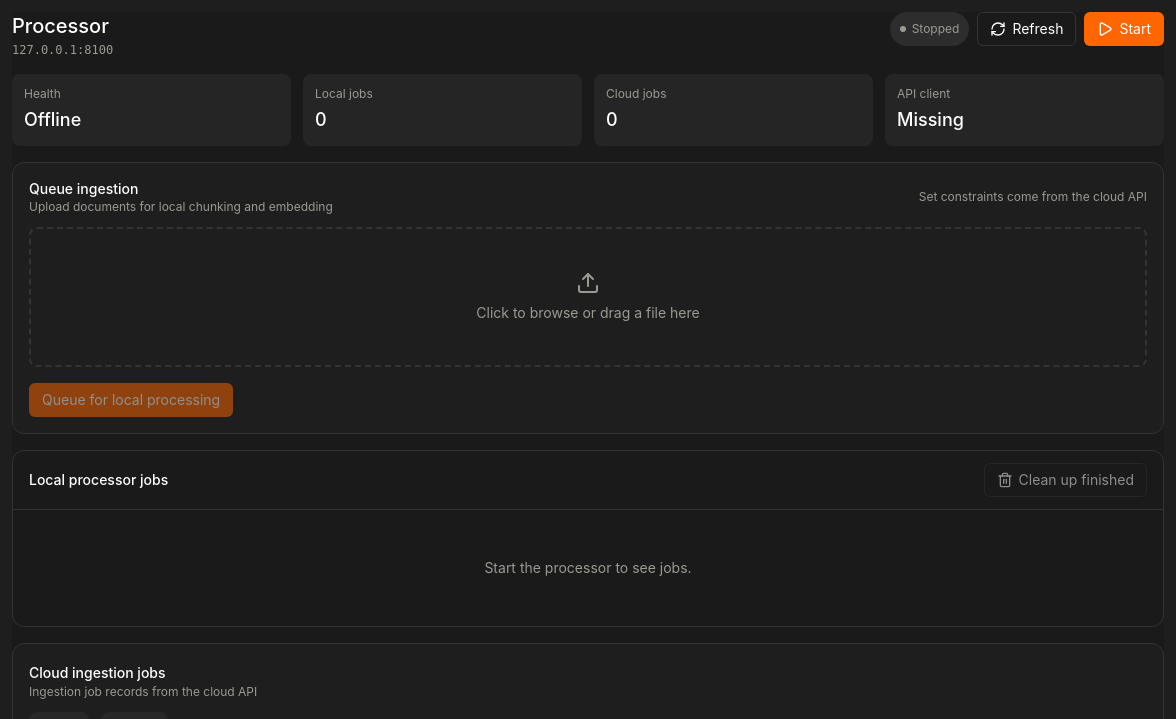
Scenario: ProcessorScreen — cloud job source file name subtitle › cleans up the cloud job when local queueing fails
The image size is (1176, 719).
Check: the text "Stopped" is shown, box [890,12,970,46]
Click the text "Click to browse or drag a file here".
click(588, 313)  # box [476,303,700,323]
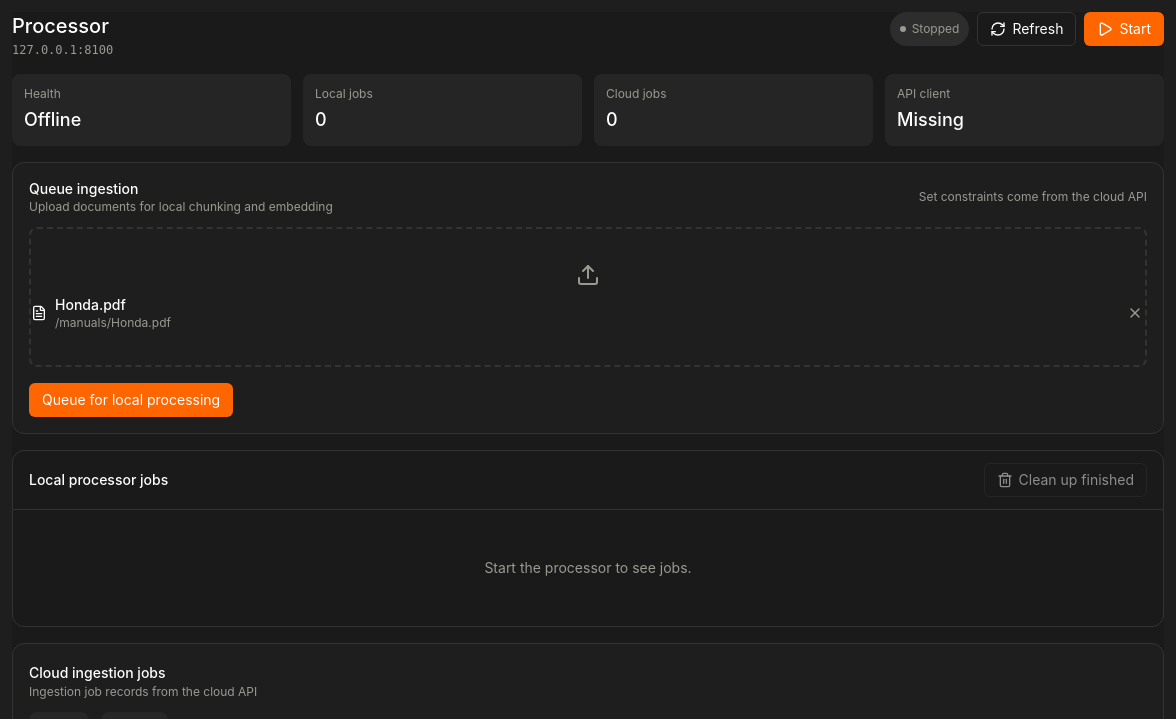
Check: the text "Honda.pdf" is shown, box [55,296,126,313]
Click the button "Queue for local processing".
click(131, 400)  # box [29,383,233,417]
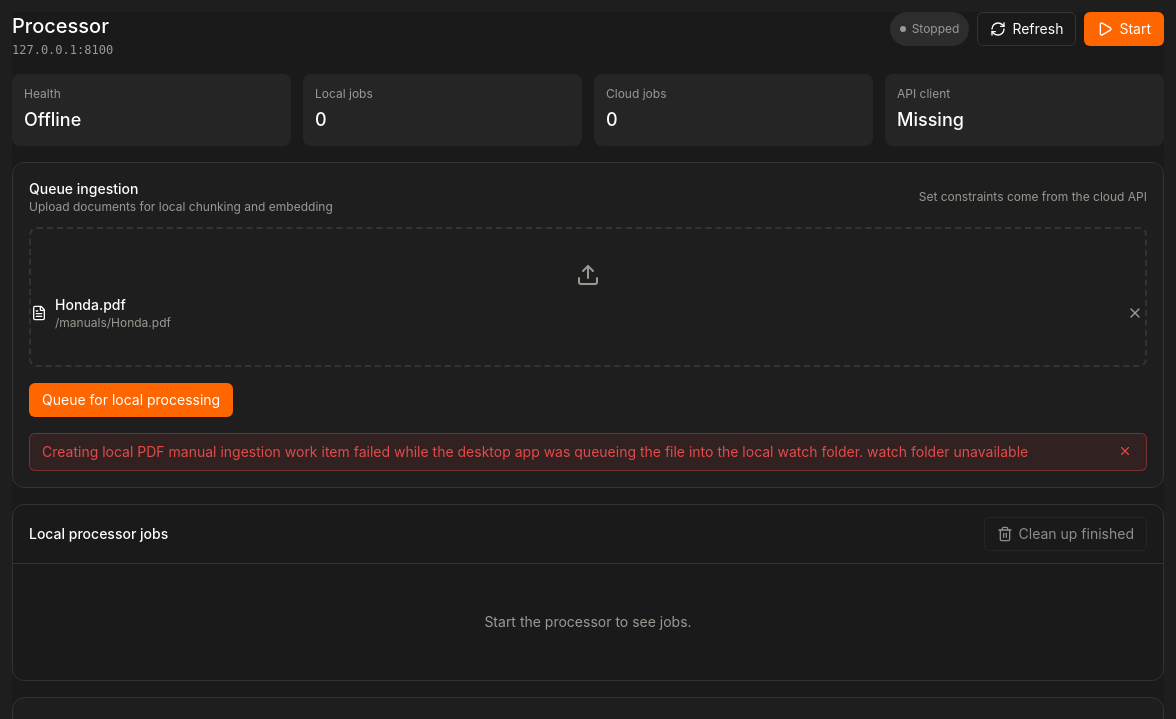
Check: the text "watch folder unavailable" is shown, box [42,443,1028,460]
